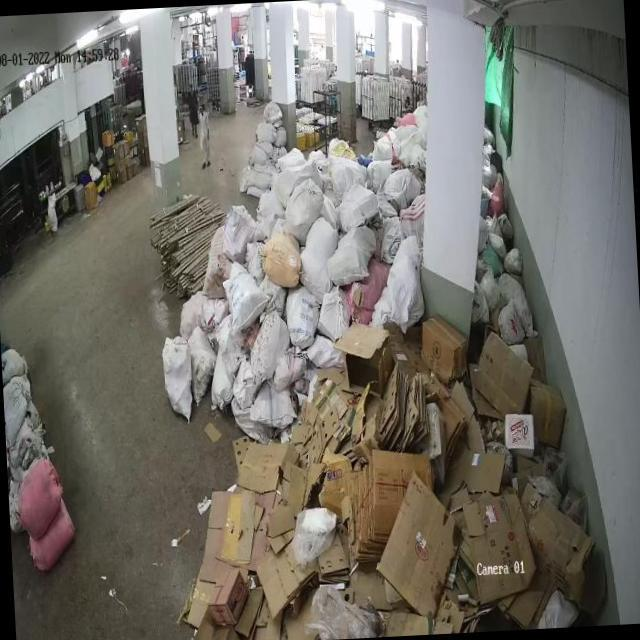person: (196, 104, 212, 168), (186, 83, 202, 138)
